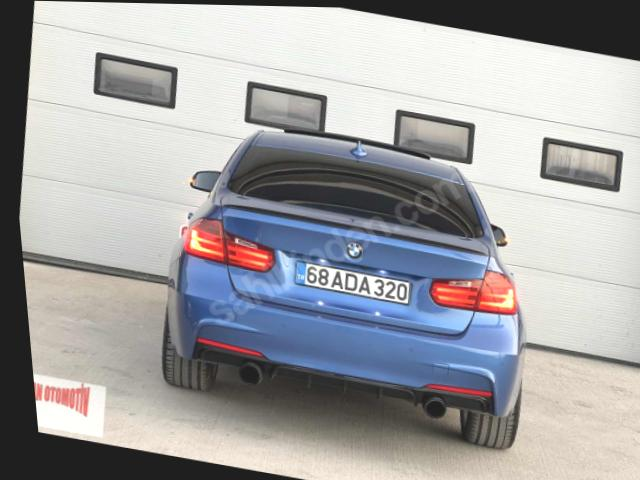plaka: (294, 262, 411, 304)
